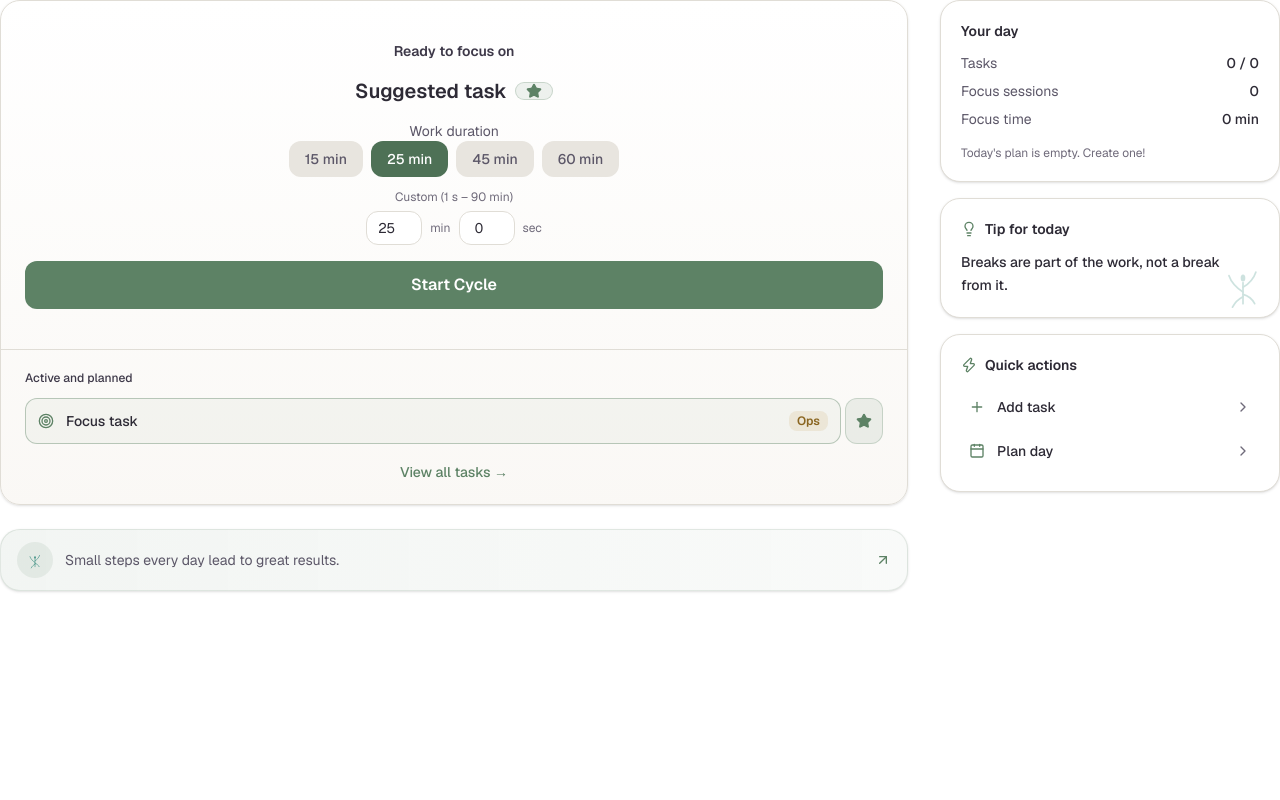
Test: PomodoroDashboardBody overlay visibility › opens kickoff suggestion popup from focus-ready star
The image size is (1280, 800).
What coordinates should you click on to do the following:
click the button with test id "focus-ready-suggestion-star-task-1"
I would click on:
 (864, 421)
Its box is [845,398,883,444].
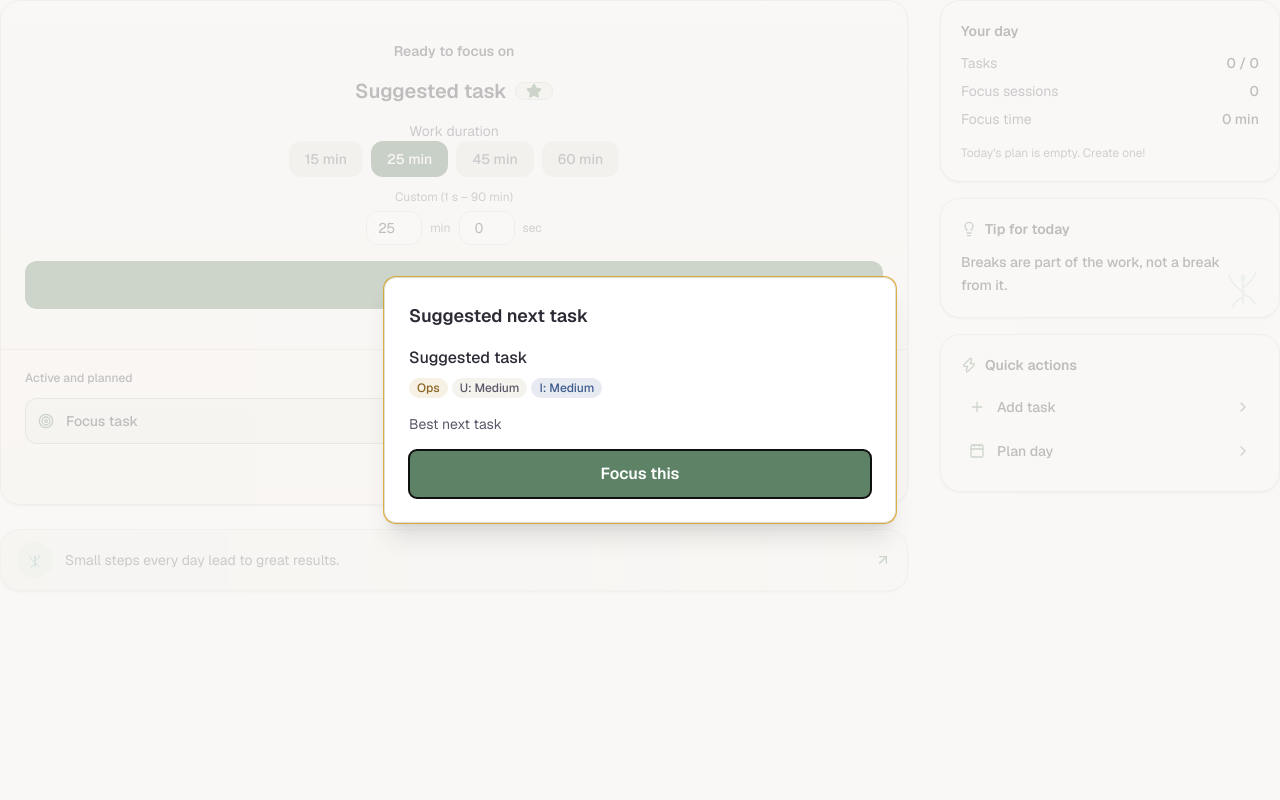
expect the element with test id "task-suggestion-card" is shown: met, box [409,302,871,498]
expect the text "Suggested task" is shown: met, box [409,347,528,368]
expect the button with test id "suggestion-accept-btn" is shown: met, box [409,450,871,498]
